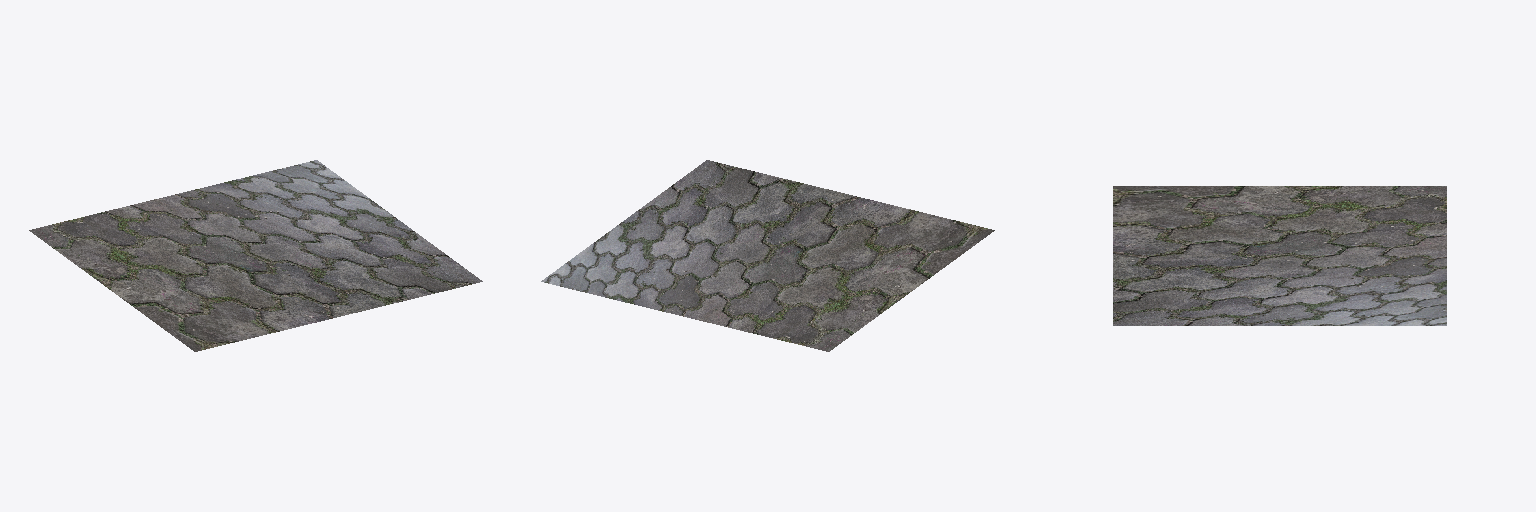
3 renders of one model, left to right at view 1: azimuth 30°, elevation 25°; view 2: azimuth 150°, elevation 25°; view 3: azimuth 270°, elevation 25°, orthographic.
Parts seen in each view (by area): view 1: Plano; view 2: Plano; view 3: Plano.
Boxes of the visible parts, <box> form: Plano: <box>29,160,482,351</box>; Plano: <box>541,160,994,351</box>; Plano: <box>1113,186,1446,325</box>.
Size of the model in its own units: 2 by 0 by 2.
Materials: 1 (1 with a texture image).